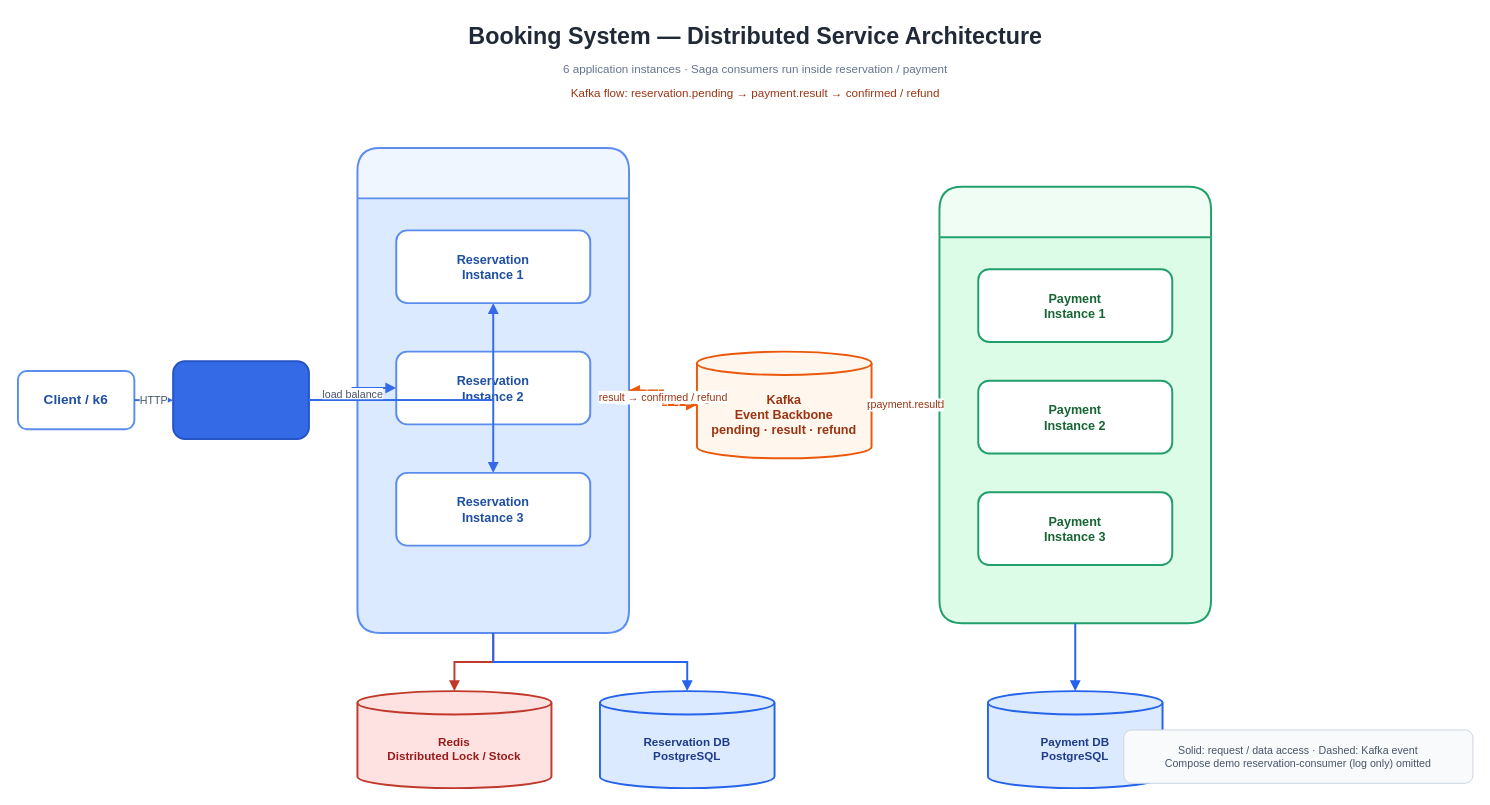
This 1490x805 diagram has some shape labels left out. Here are the shapes that lost their labels. From the top down, the box of each, then its label:
(172, 360, 309, 439): Nginx Load Balancer
(356, 146, 630, 633): RESERVATION · 3 SERVER INSTANCES (API + PaymentResultConsumer + Outbox)
(938, 185, 1212, 624): PAYMENT · 3 SERVER INSTANCES (PendingConsumer + Mock PG + Outbox)
